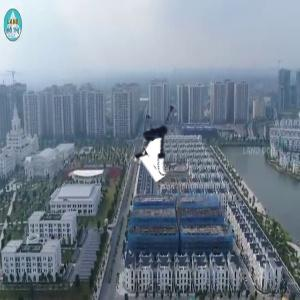drone: (123, 96, 200, 173)
